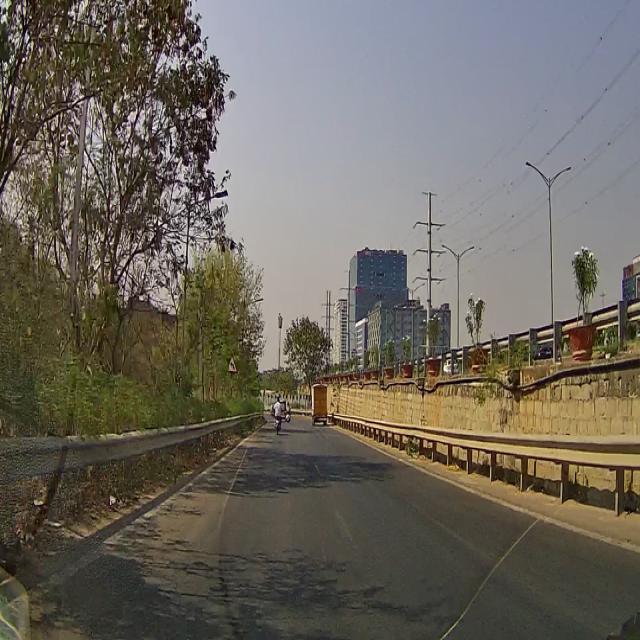side-road-left: (228, 354, 237, 374)
